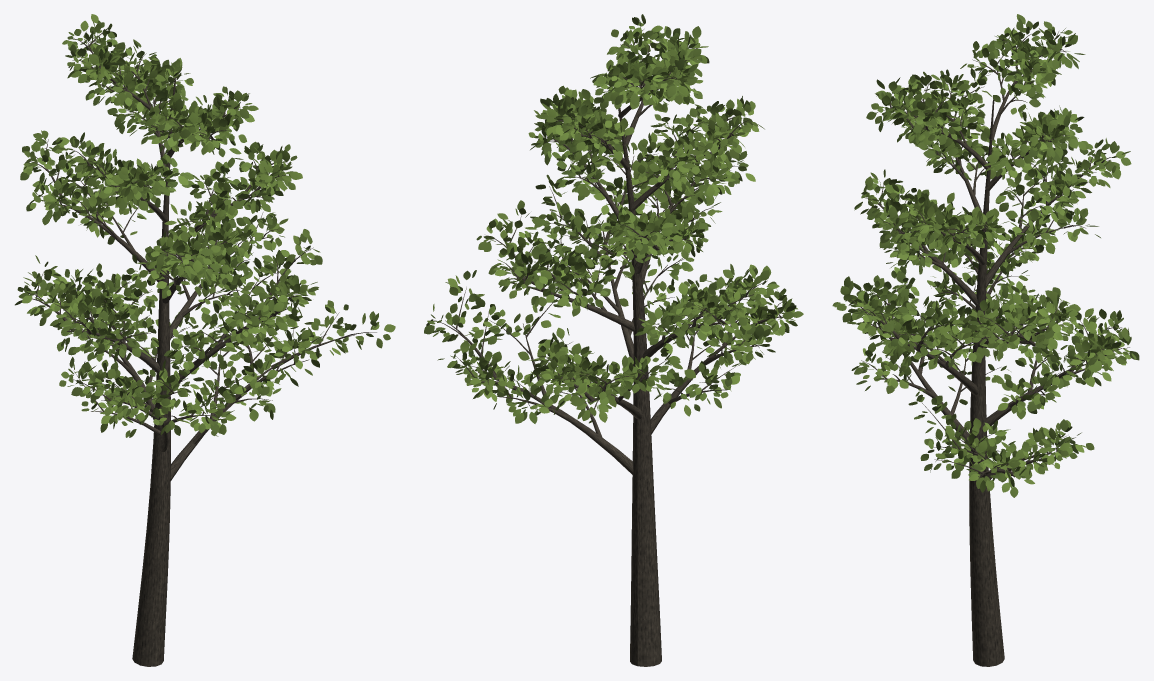
Rendered from open_04_lod0.glb.
The picture shows the model from 3 angles, left to right: view 1: azimuth 30°, elevation 25°; view 2: azimuth 150°, elevation 25°; view 3: azimuth 270°, elevation 25°; orthographic projection. The views are drawn at different scales.
Parts seen in each view (by area): view 1: individual_folded_leaves, trunk_branches; view 2: individual_folded_leaves, trunk_branches; view 3: individual_folded_leaves, trunk_branches.
Boxes of the visible parts, <box> form: individual_folded_leaves: <box>15,14,395,437</box>; trunk_branches: <box>29,29,376,666</box>; individual_folded_leaves: <box>424,14,803,423</box>; trunk_branches: <box>431,29,782,666</box>; individual_folded_leaves: <box>832,14,1139,497</box>; trunk_branches: <box>850,31,1129,666</box>.
Bounding box in the file's own units: 6.64 × 11.57 × 5.18.
2 materials, 1 textured.
